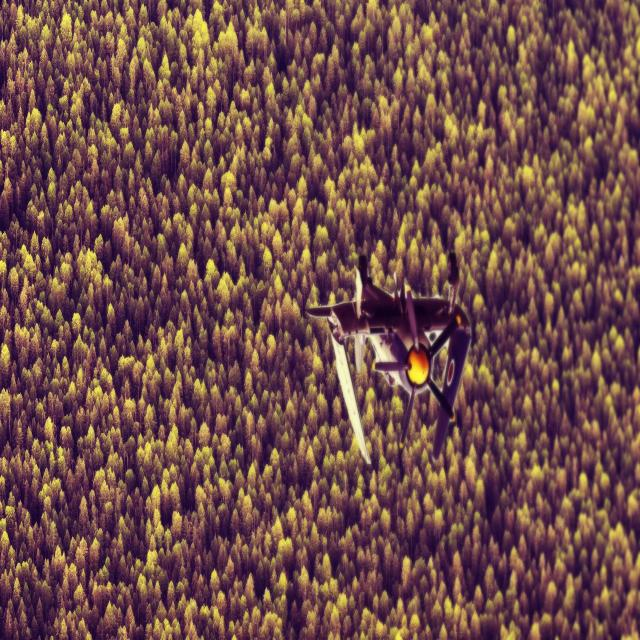airplane: (304, 250, 472, 465)
